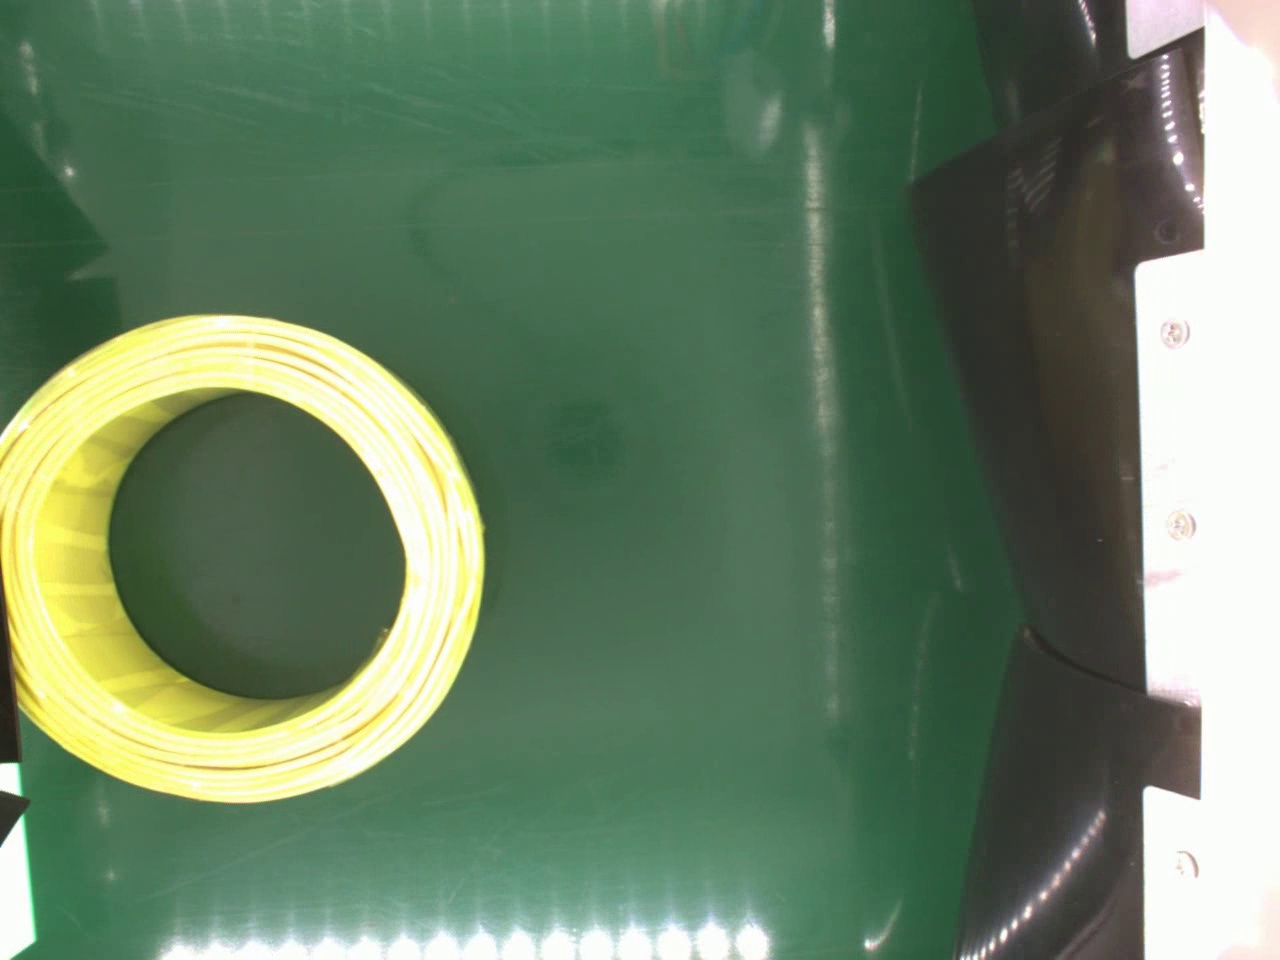yellow: (0, 313, 486, 805)
